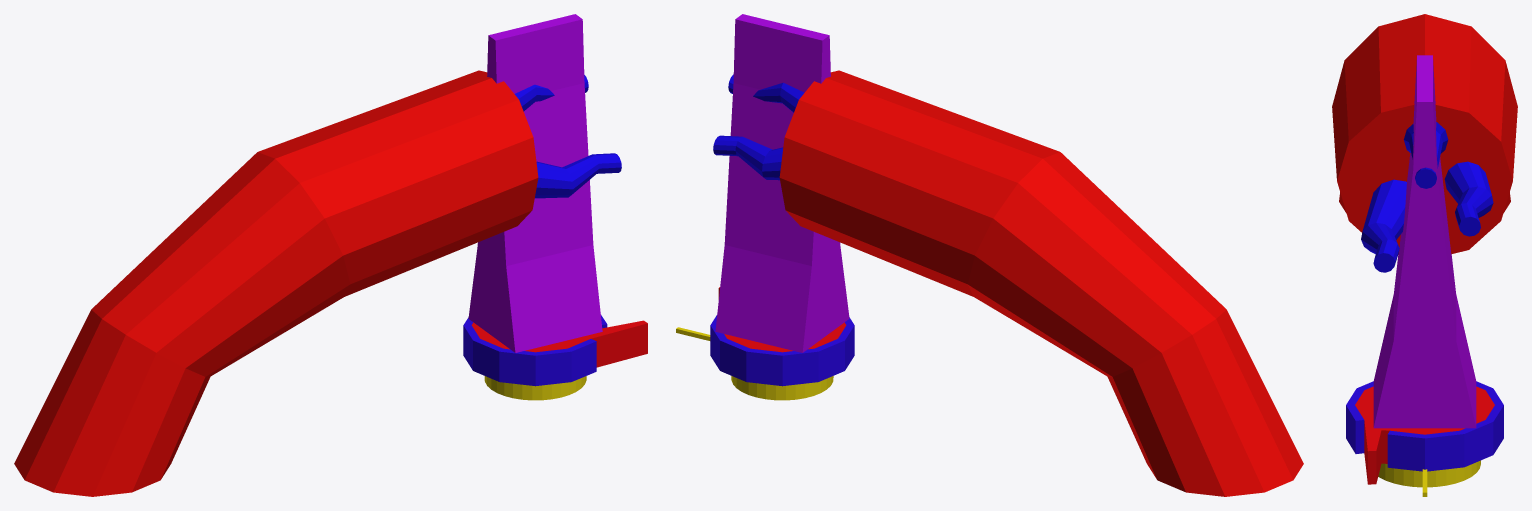
Rendered from minigame_fix_2.fbx.
The picture shows the model from 3 angles, left to right: view 1: azimuth 30°, elevation 25°; view 2: azimuth 150°, elevation 25°; view 3: azimuth 270°, elevation 25°; orthographic projection. The views are drawn at different scales.
Visible parts, largest first — view 1: Circle.003, Glue, Tape; view 2: Circle.003, Glue, Tape; view 3: Circle.003, Glue, Tape.
Boxes of the visible parts, <box> form: Circle.003: <box>14,70,621,496</box>; Glue: <box>468,14,602,400</box>; Tape: <box>463,315,647,386</box>; Circle.003: <box>713,70,1303,496</box>; Glue: <box>715,14,849,400</box>; Tape: <box>710,287,854,386</box>; Circle.003: <box>1332,14,1517,272</box>; Glue: <box>1373,55,1480,487</box>; Tape: <box>1346,381,1503,484</box>.
Size of the model in its own units: 696 by 379 by 166.
